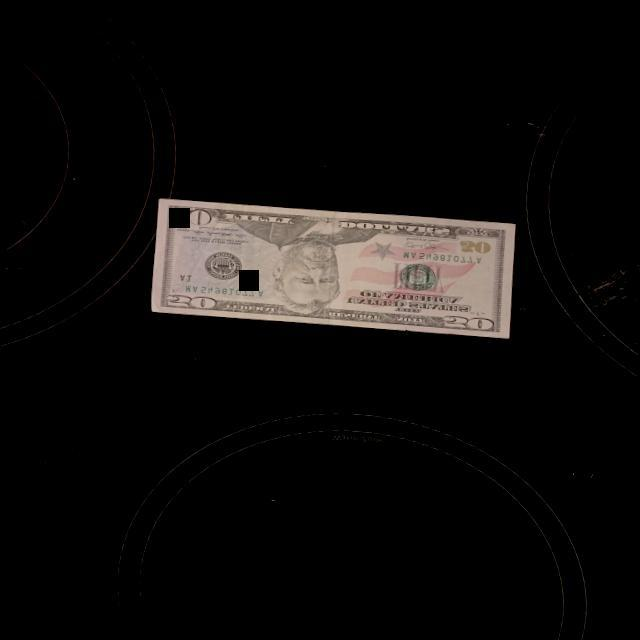fifty: (146, 193, 520, 344)
